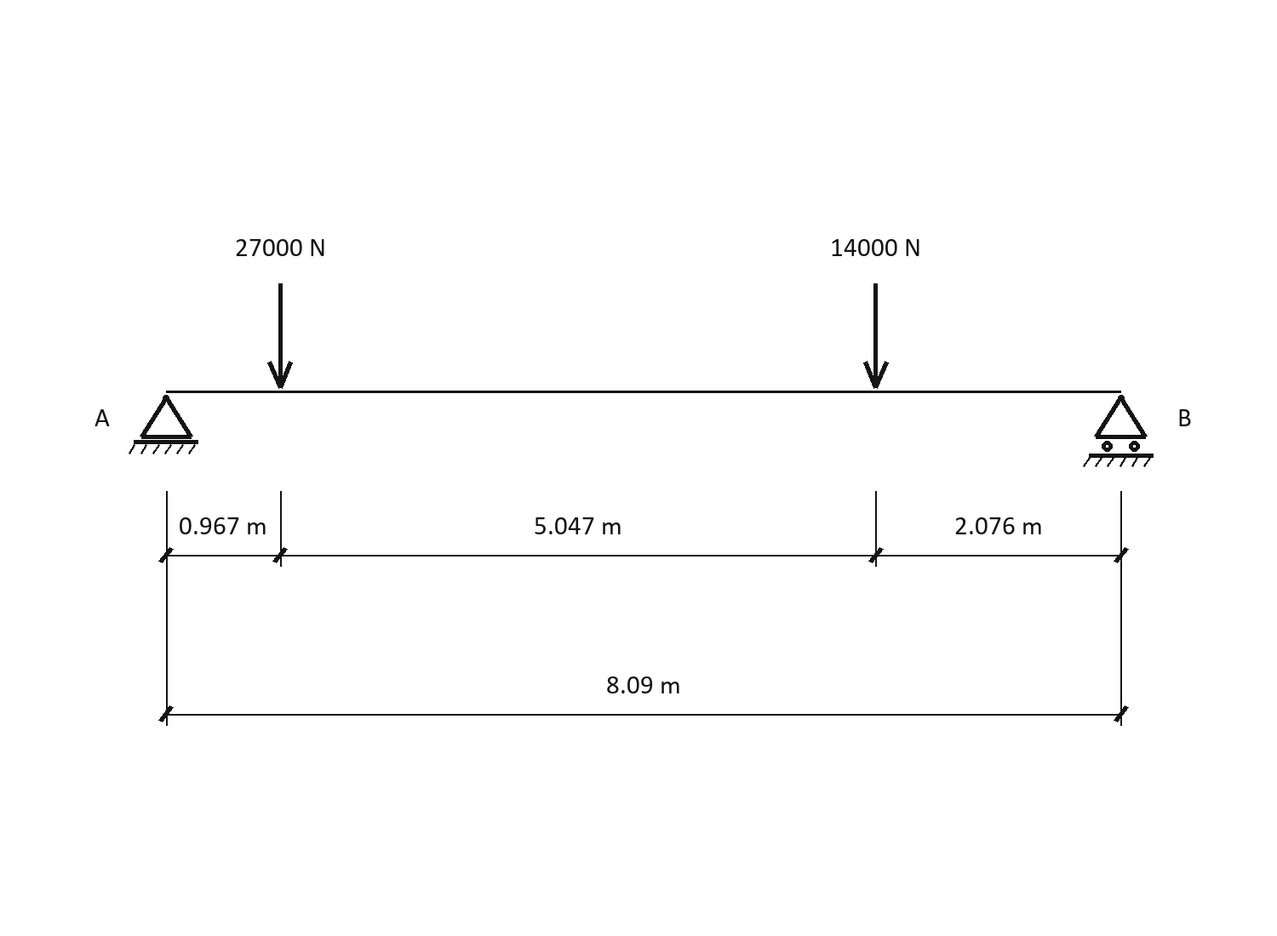pin_support: (129, 395, 198, 454)
point_load: (267, 283, 293, 389), (863, 283, 889, 389)
roller_support: (1083, 395, 1154, 467)
